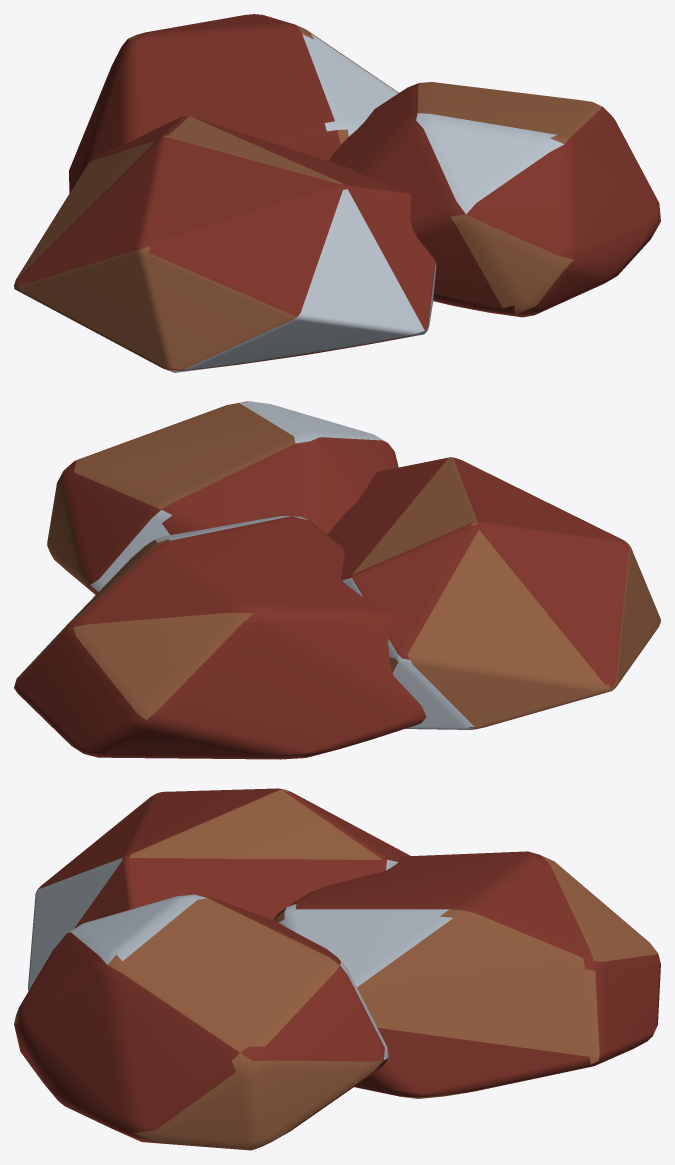
File: minerai_fer_2.glb
The picture shows the model from 3 angles, top to bottom: view 1: azimuth 30°, elevation 25°; view 2: azimuth 150°, elevation 25°; view 3: azimuth 270°, elevation 25°; orthographic projection.
Parts seen in each view (by area): view 1: minerai_hematite.004, minerai_rouille.004, minerai_fer_metal.004; view 2: minerai_hematite.004, minerai_rouille.004, minerai_fer_metal.004; view 3: minerai_hematite.004, minerai_rouille.004, minerai_fer_metal.004.
Boxes of the visible parts, x1,y1,x2,y2 form: minerai_hematite.004: [14, 14, 660, 370]; minerai_rouille.004: [14, 25, 602, 369]; minerai_fer_metal.004: [168, 34, 563, 372]; minerai_hematite.004: [14, 437, 628, 759]; minerai_rouille.004: [14, 401, 660, 729]; minerai_fer_metal.004: [90, 401, 474, 729]; minerai_hematite.004: [14, 788, 660, 1150]; minerai_rouille.004: [14, 789, 657, 1149]; minerai_fer_metal.004: [28, 858, 452, 1059].
Bounding box in the file's own units: 0.5588 × 0.1368 × 0.5332.
